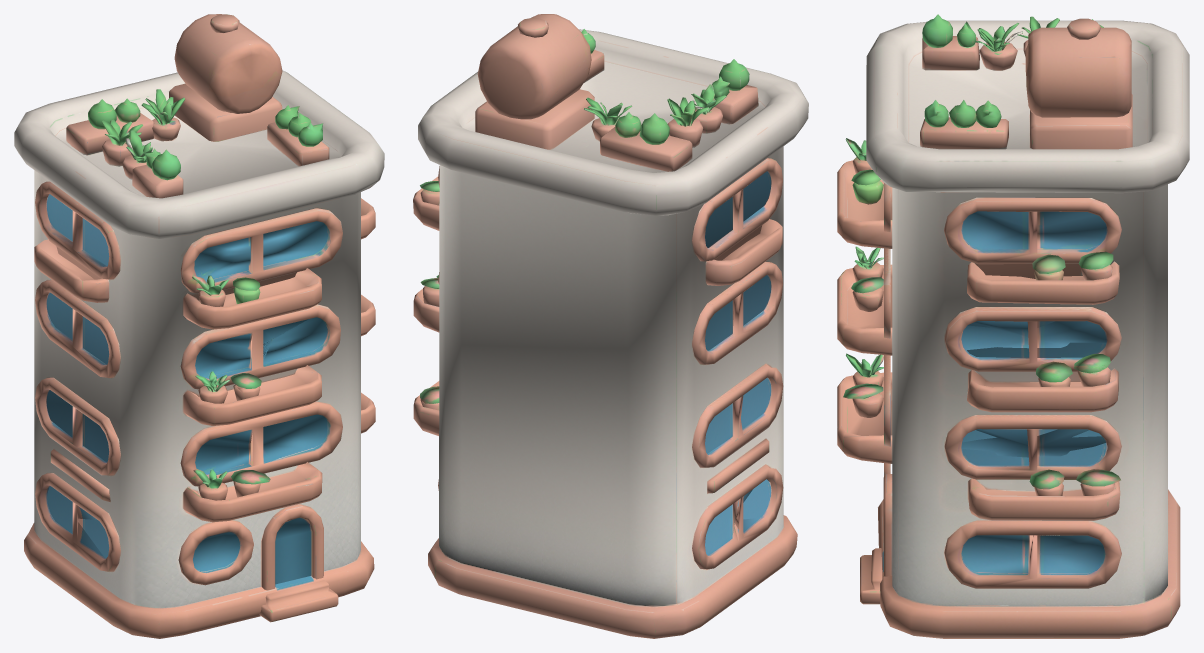
The model's file is building_flats.glb.
3 renders of one model, left to right at view 1: azimuth 30°, elevation 25°; view 2: azimuth 150°, elevation 25°; view 3: azimuth 270°, elevation 25°, orthographic. The views are drawn at different scales.
Bounding box in the file's own units: 0.5728 × 0.9526 × 0.5259.
Materials: 1 (1 with a texture image).
